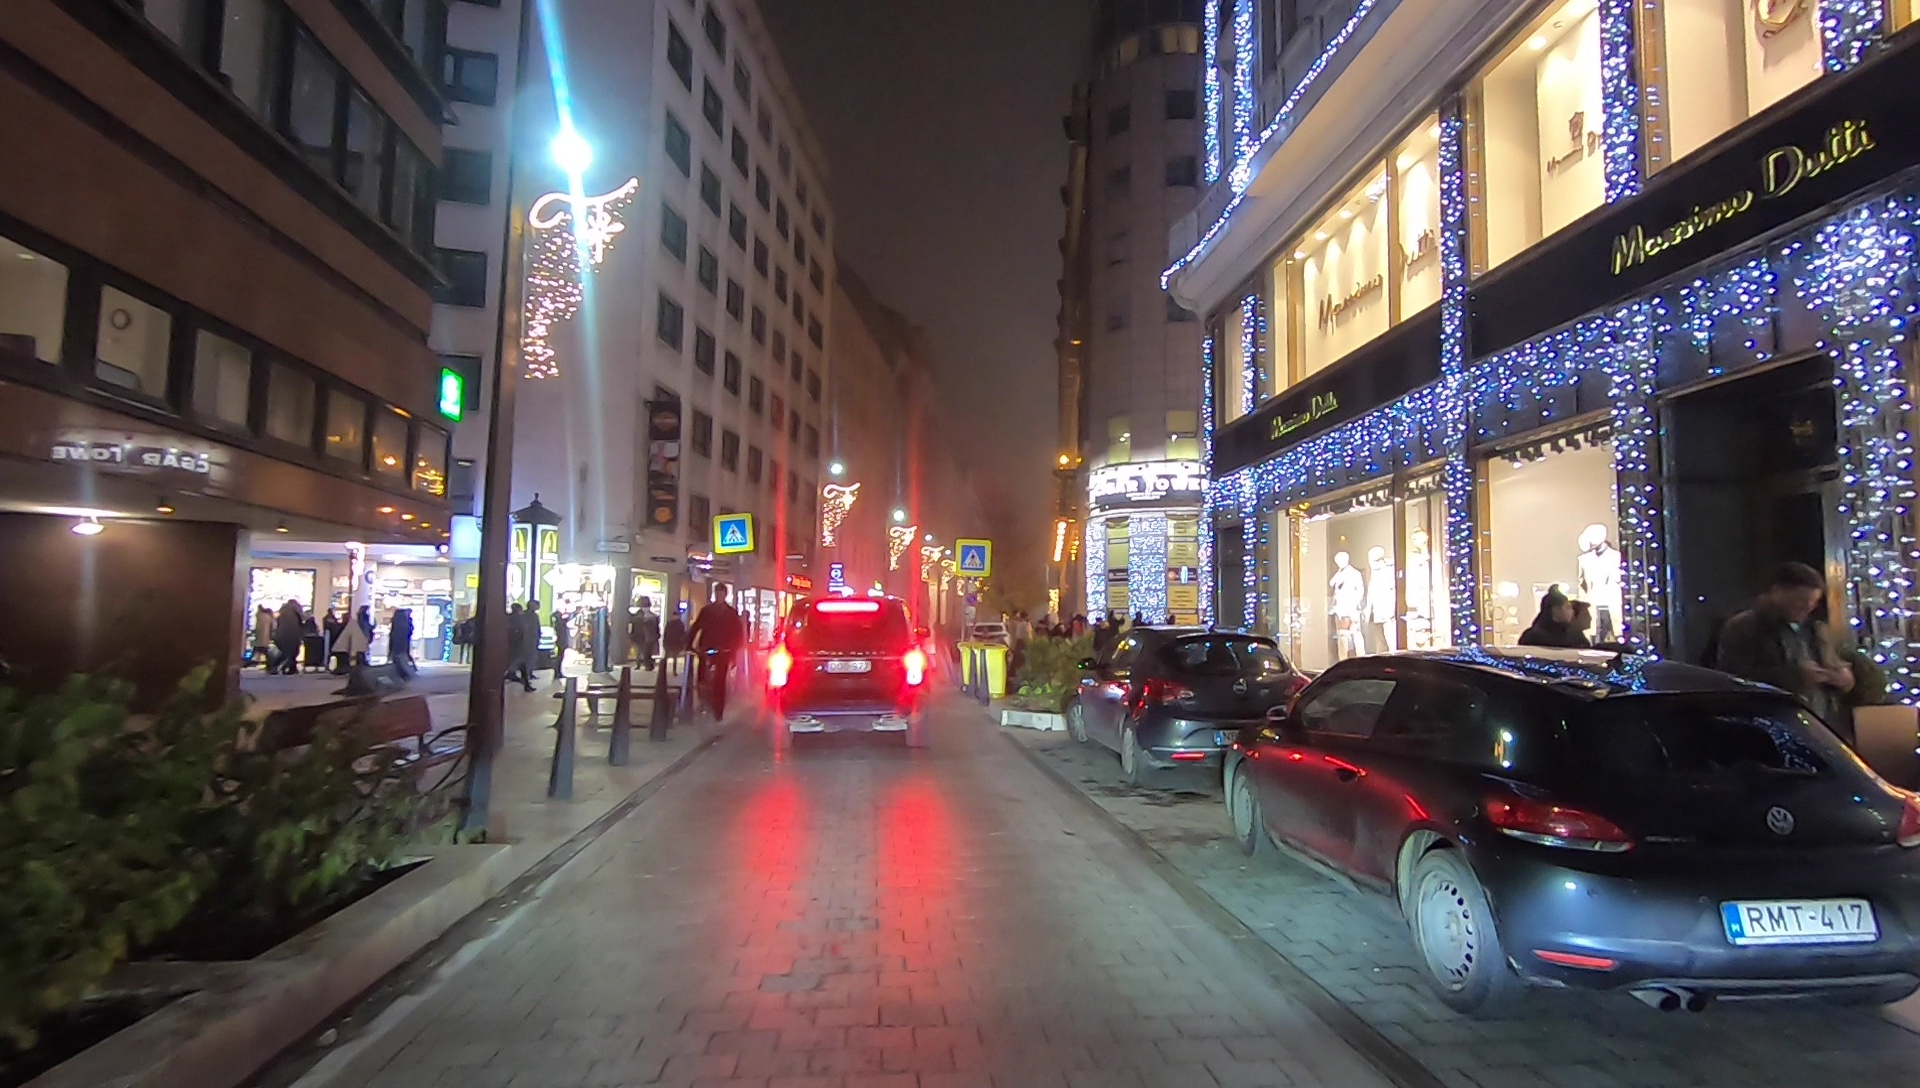person: (688, 583, 738, 710), (549, 610, 574, 682), (389, 608, 415, 675), (638, 605, 662, 675), (353, 604, 378, 668), (666, 611, 684, 675)
